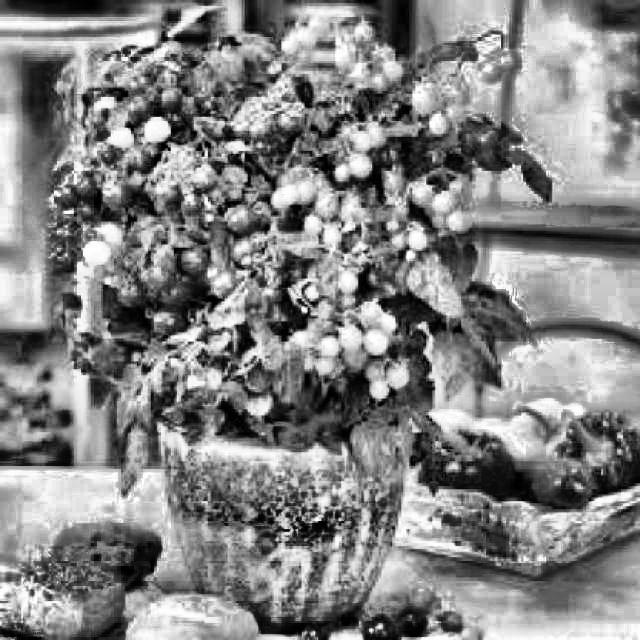plants: (48, 11, 552, 626)
